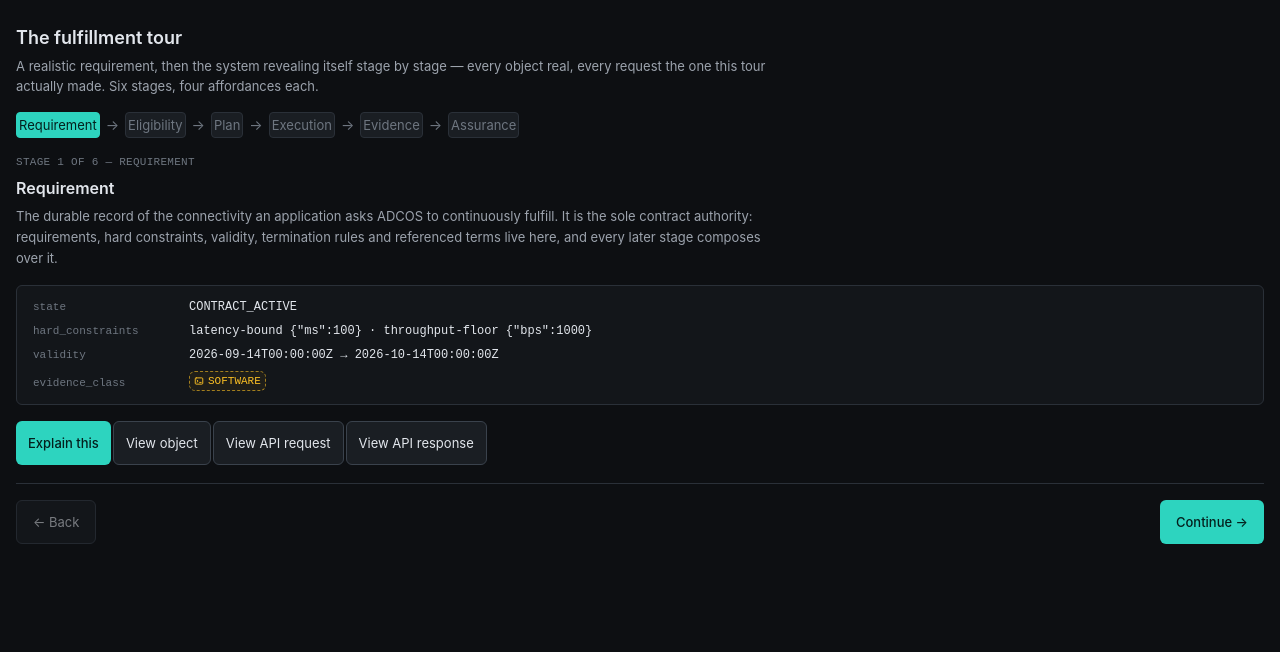
Test case: The fulfillment tour — the four affordances › View API request and View API response show the REAL request/response pair
expect the element with test id "tour-stage" is shown: met, box [16, 154, 1264, 544]
expect the heading "Requirement" is shown: met, box [16, 178, 114, 198]
# the request the tour actually made — the read-only GET
Step 1. Click the button with test id "tour-view-request" → [278, 443], box [213, 421, 344, 465]
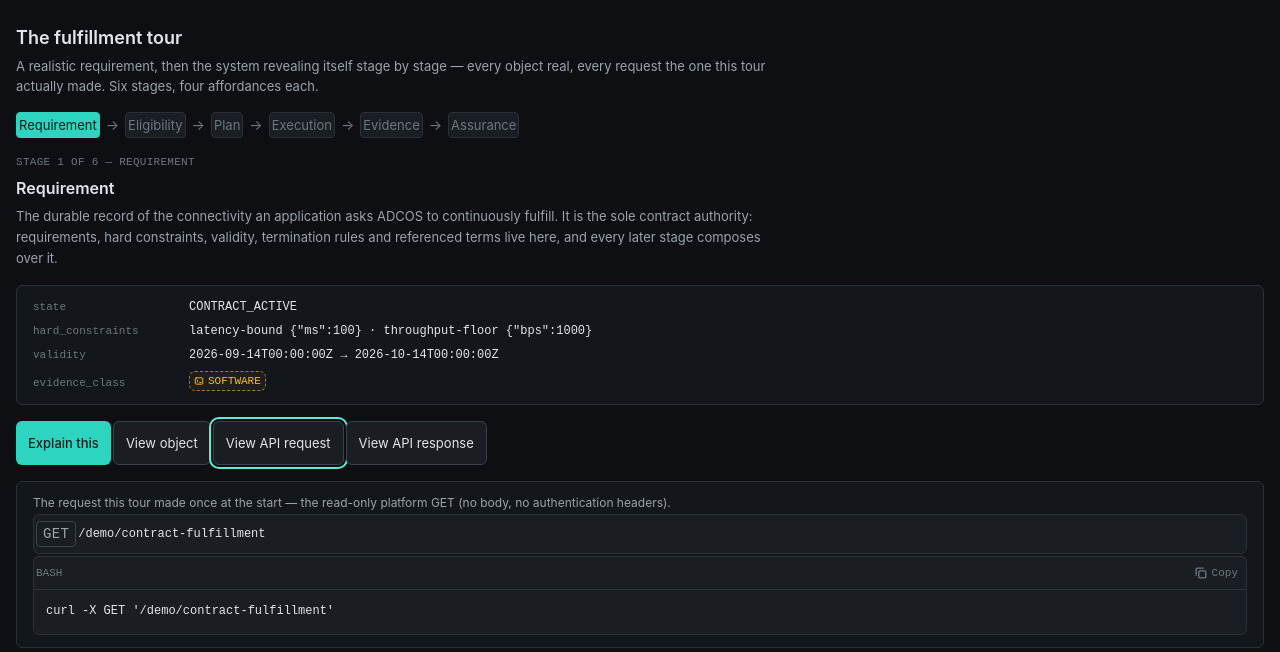
expect the text "curl -X GET '/demo/contract-fulfillment'" is shown: met, box [46, 604, 334, 618]
expect the text "GET" is shown: met, box [36, 521, 76, 547]
Step 2. Click the button with test id "tour-view-response" → [416, 443], box [346, 421, 487, 465]
(page scrolled)
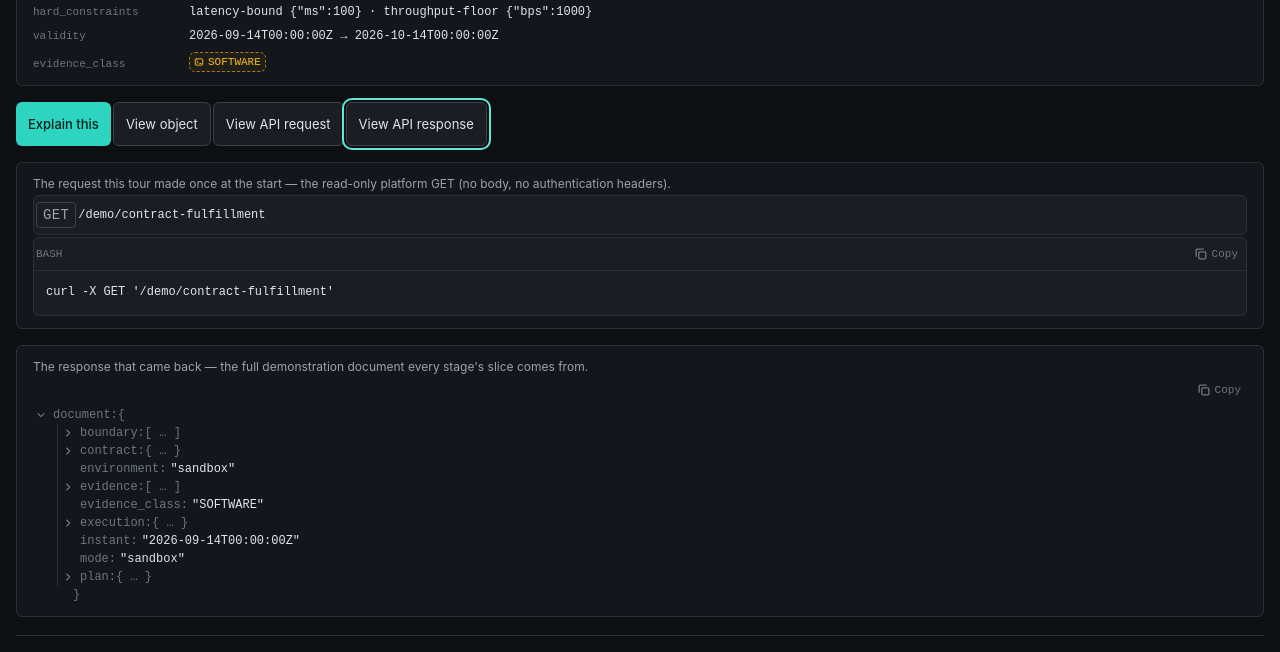
expect the text "\"2026-09-14T00:00:00Z\"" is shown: met, box [142, 532, 300, 550]
expect the text "evidence:" is shown: met, box [80, 480, 145, 494]
expect the text "plan:" is shown: met, box [80, 570, 116, 584]
